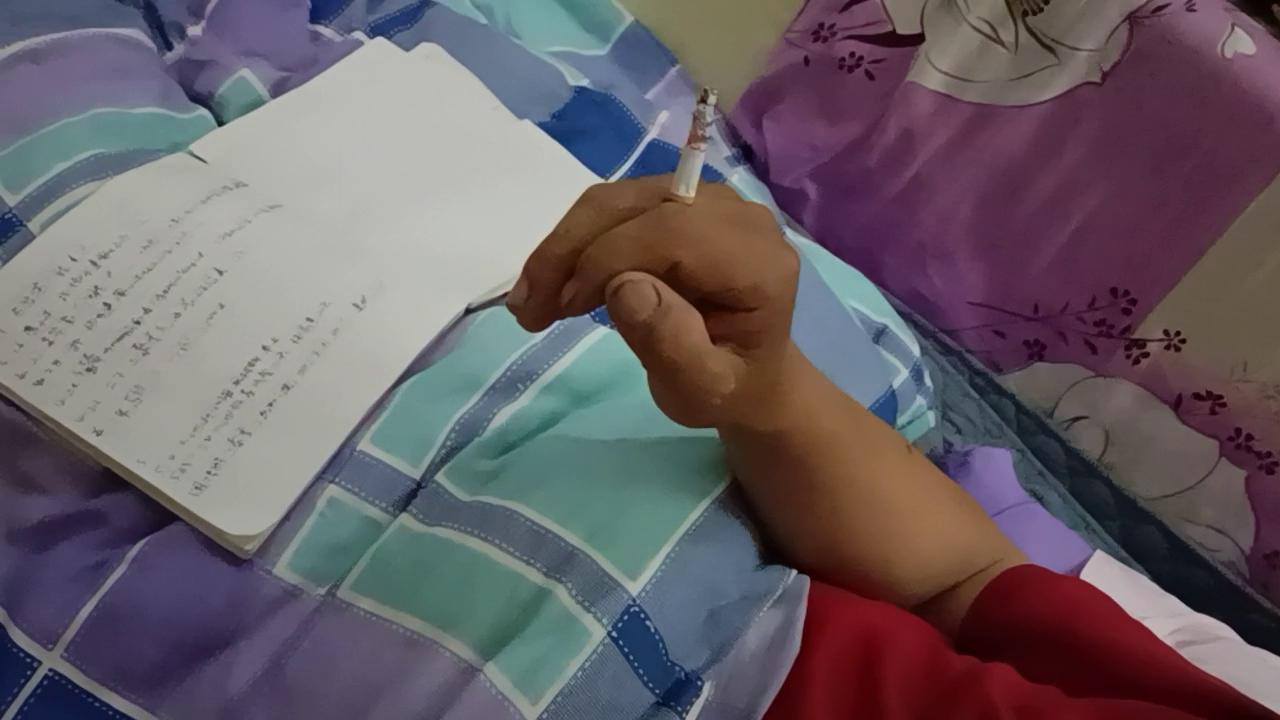smoke: (647, 87, 720, 243)
